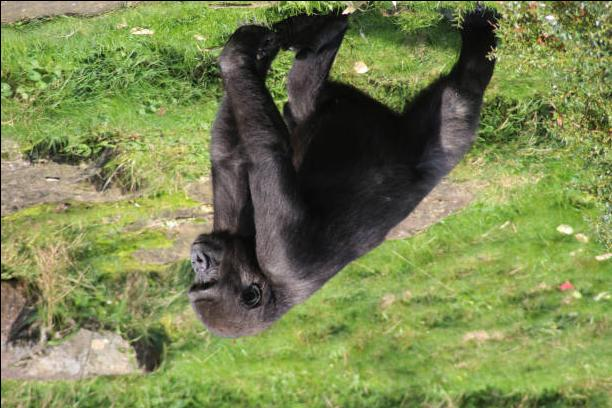gorille_Autres: (140, 0, 539, 366)
